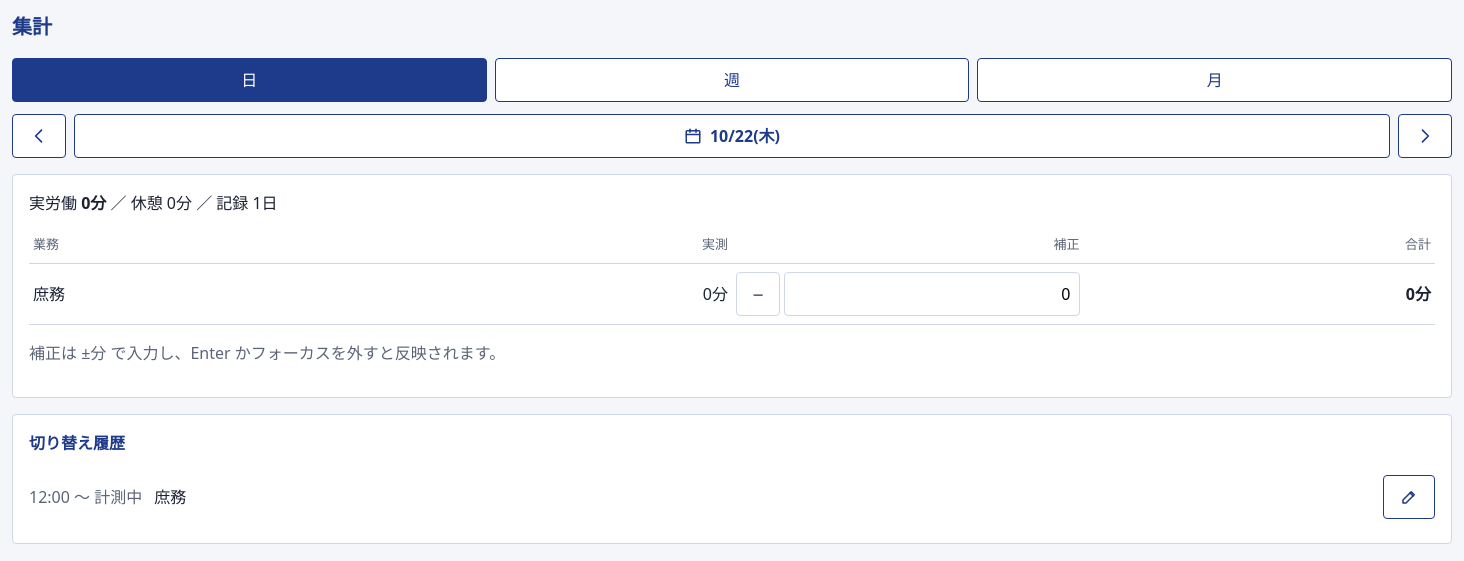
SummaryScreen › 週に切り替えると補正は入力欄ではなく表示になり、履歴は出ない
This screenshot has width=1464, height=561.
Click the button "週": (732, 80) [495, 58, 969, 102]
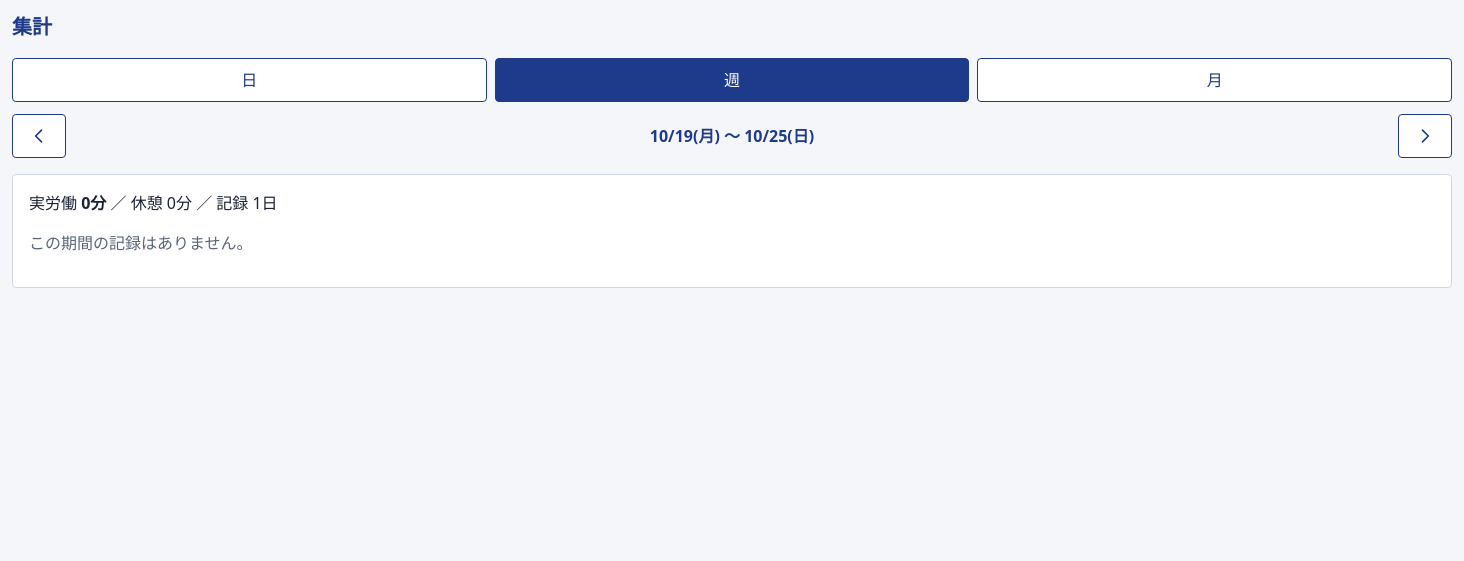
Expected: the field with class "adjust-input" is gone
Expected: the text "切り替え履歴" is gone
